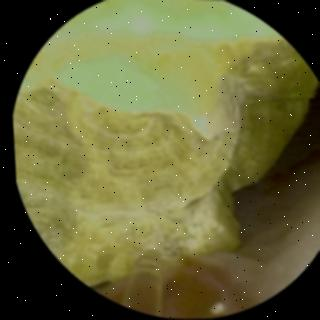stone: (12, 0, 315, 285)
